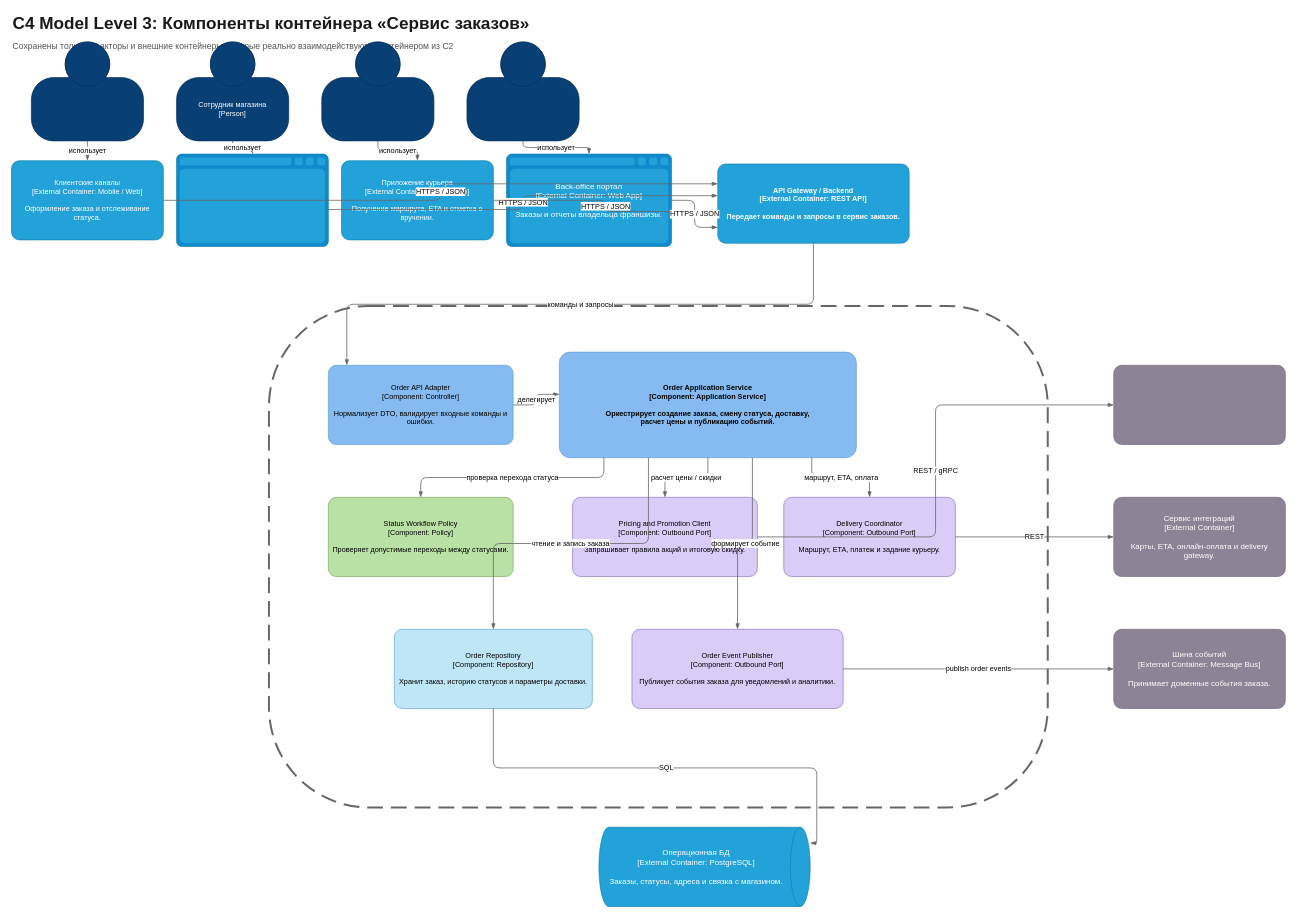
Some shapes in this 1297 by 918 pixel diagram are drawn without their labels. Here are the shapes that lost their labels. From the top down, the box of each, then its label:
(31, 41, 144, 141): Клиент [Person]
(321, 41, 434, 141): Курьер [Person]
(466, 41, 579, 141): Владелец франшизы [Person]
(176, 153, 328, 247): Панель магазина [External Container: Web App] Переходы между статусами заказа.
(1113, 365, 1285, 445): Сервис акций [External Container] Национальные и локальные скидки.
(268, 305, 1048, 808): Сервис заказов [Container]
